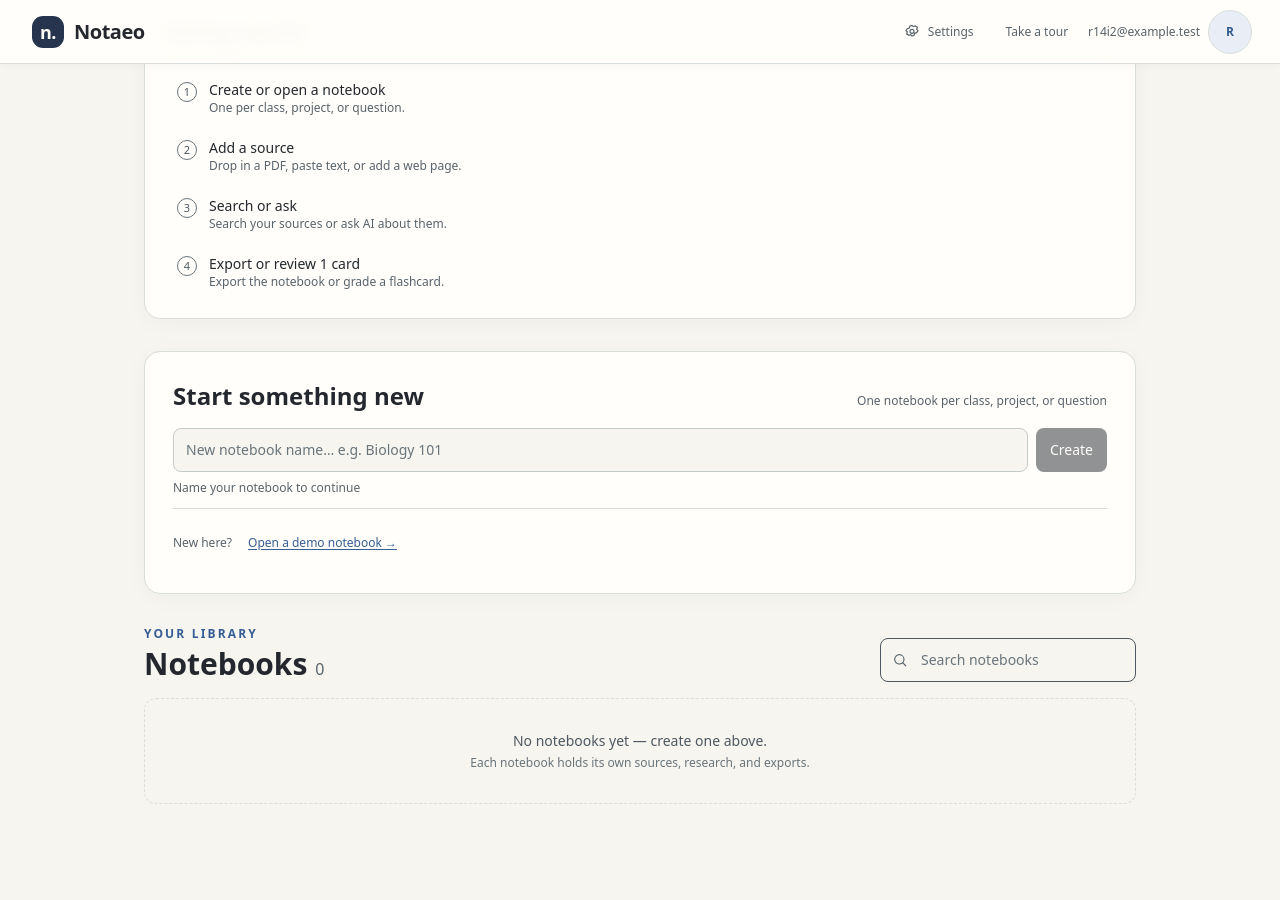
Test: after create, selects library context and brings sources heading into view
The image size is (1280, 900).
(page scrolled)
Type "Physics 101" into the field with placeholder "New notebook name… e.g. Biology 101". click: {"x": 600, "y": 450}
box: [173, 428, 1028, 472]
(page scrolled)
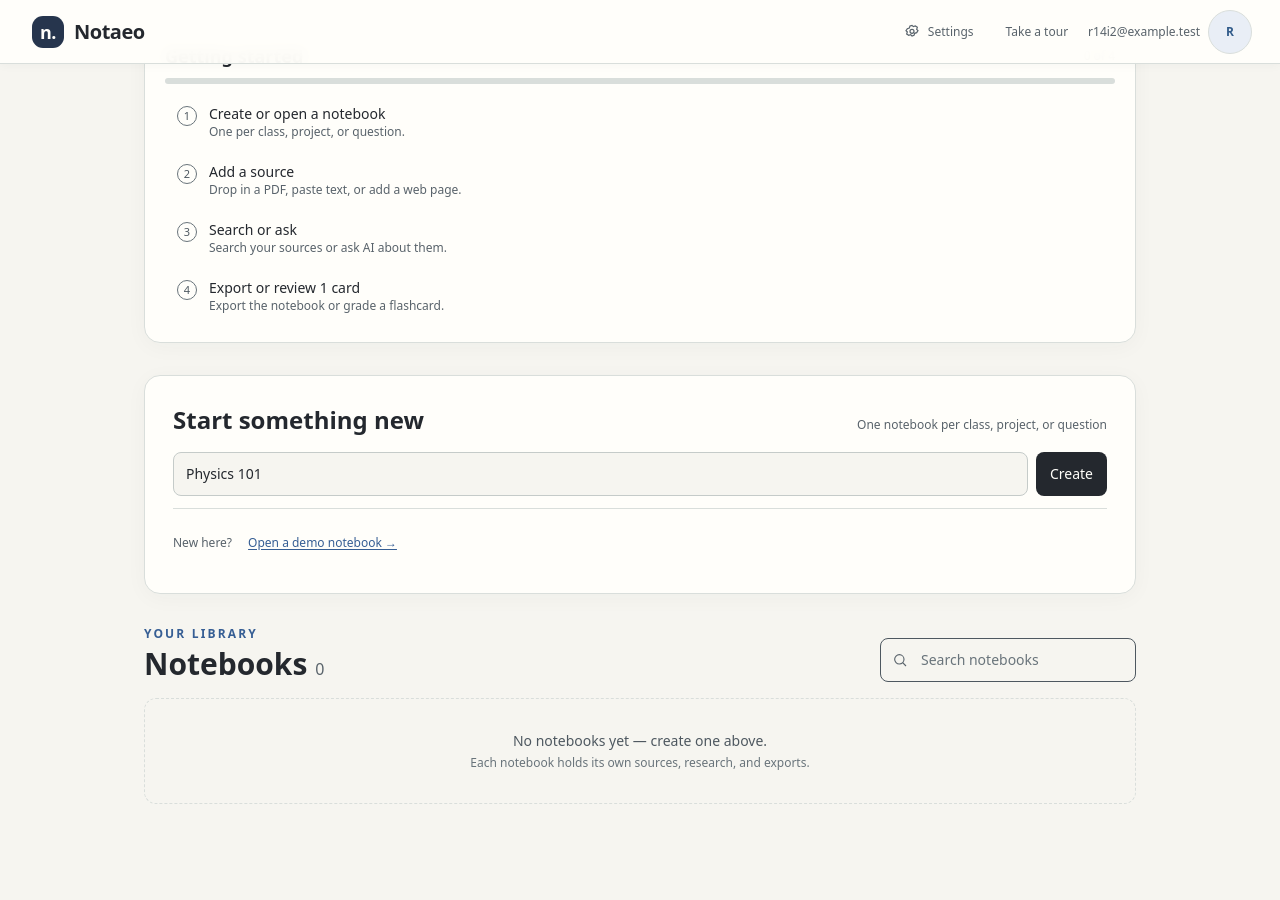
Click the button "Create". click: {"x": 1071, "y": 474}
box: [1036, 452, 1107, 496]
(page scrolled)
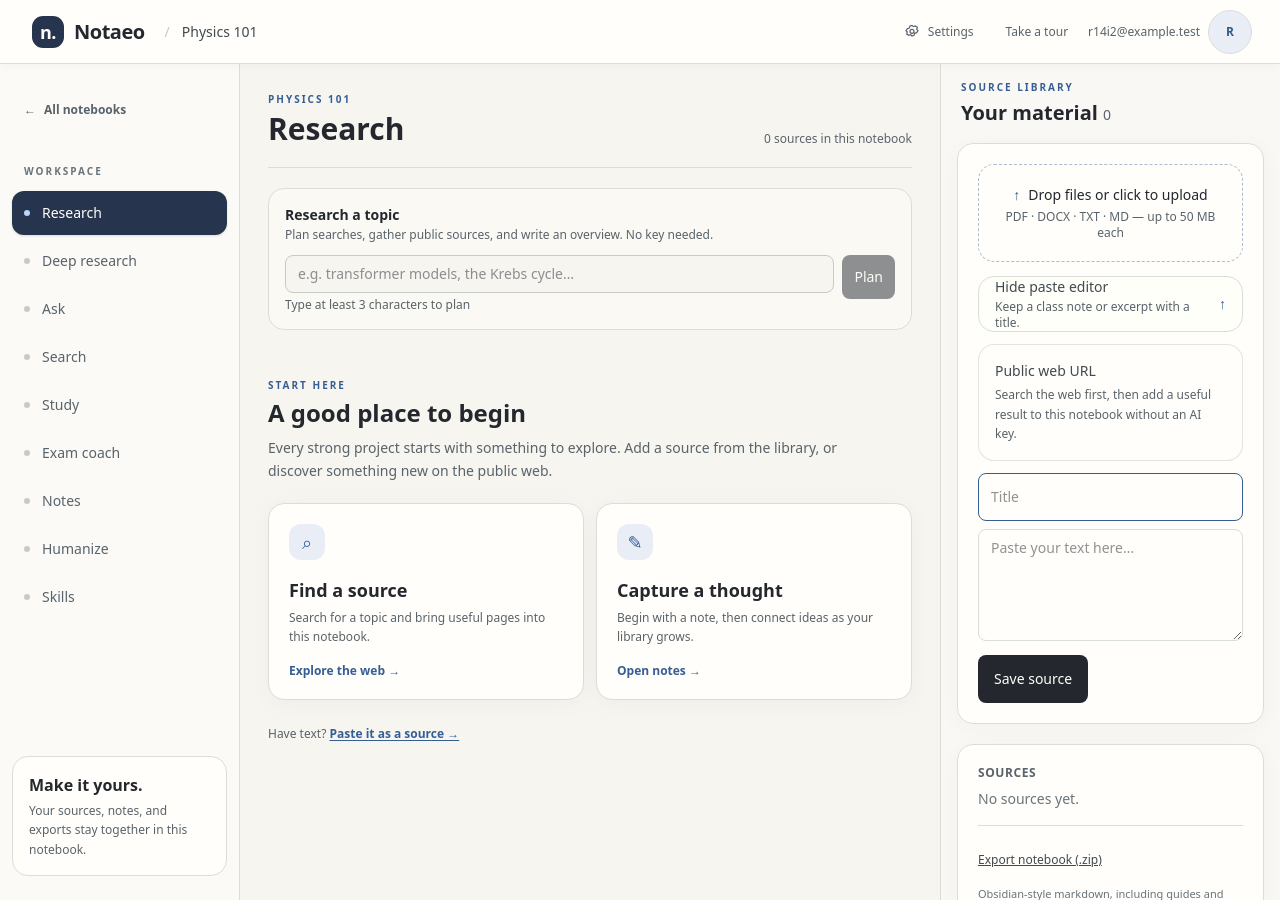
Expected: the heading "Sources" is shown, [978, 764, 1036, 780]
Expected: the element named "Add sources" is shown, [957, 143, 1264, 724]
